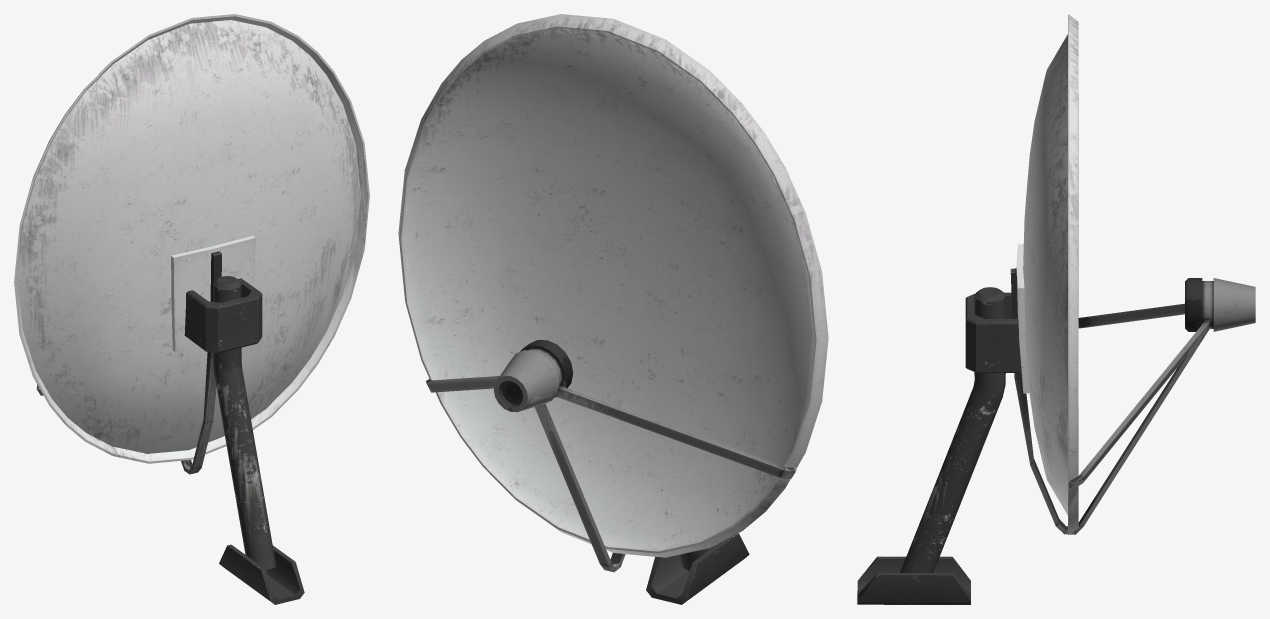
The model's file is Satellite.gltf.
3 views of the same model, side by side, from view 1: azimuth 30°, elevation 25°; view 2: azimuth 150°, elevation 25°; view 3: azimuth 270°, elevation 25° (orthographic). The views are drawn at different scales.
Parts seen in each view (by area): view 1: Arm_LOD0; view 2: Arm_LOD0; view 3: Arm_LOD0.
Boxes of the visible parts, box(x1,y1,x2,y2) form: Arm_LOD0: box(14, 14, 369, 604); Arm_LOD0: box(398, 14, 828, 604); Arm_LOD0: box(857, 14, 1255, 604).
Size of the model in its own units: 0.8722 by 1.2 by 0.7659.
Materials: 1 (1 with a texture image).
